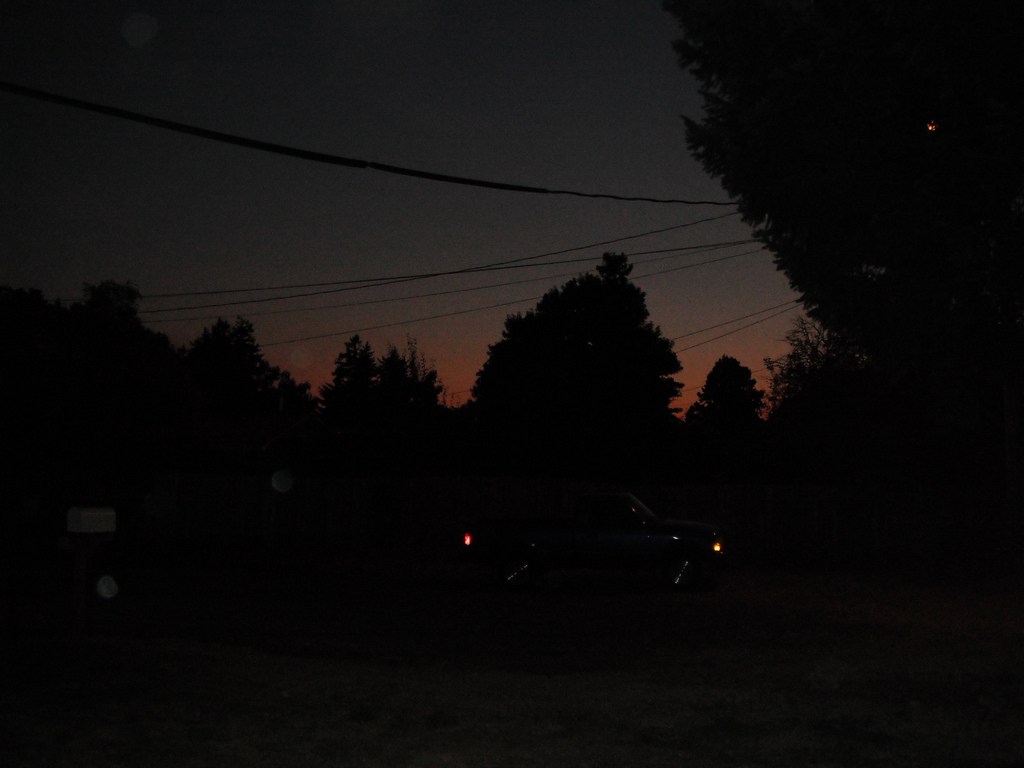car: (447, 479, 736, 603)
